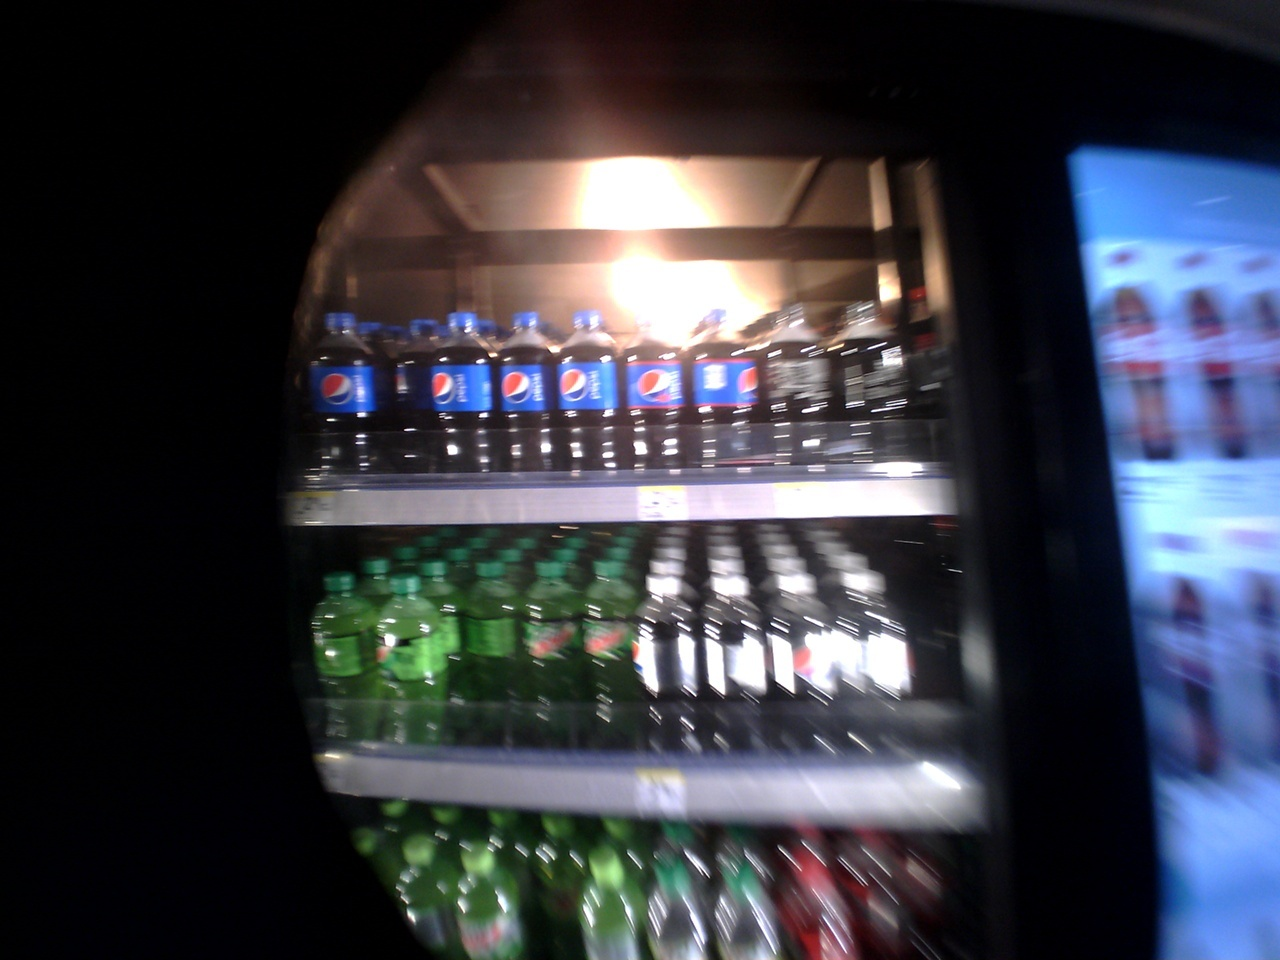shelf: (262, 507, 931, 832), (313, 276, 924, 526), (297, 809, 954, 960)
